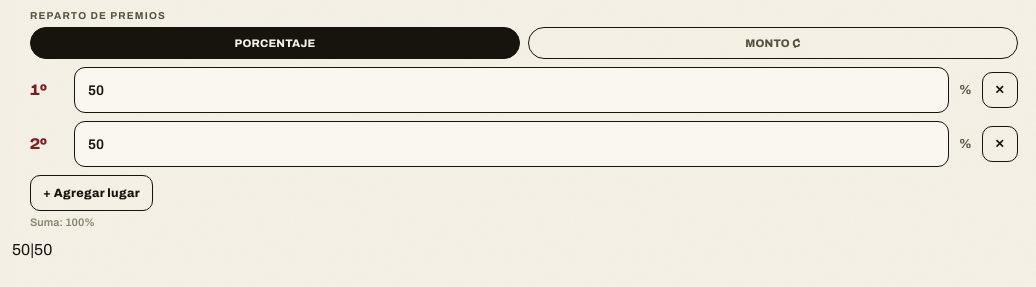
it: PrizeDistributionEditor — Monto ₡ mode › uneven amounts still yield a valid ~100% split (one-decimal percentages)
Click the tab "Monto ₡". click: (773, 43)
box: [528,27,1018,59]
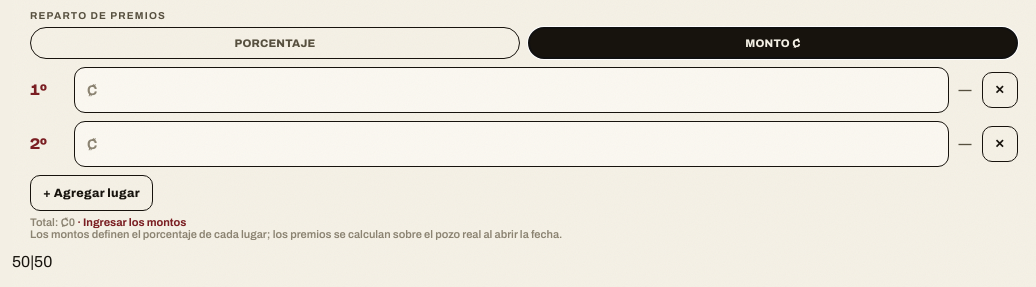
Type "70000" into the field named "Monto 1º lugar". click: (511, 90)
box: [74,67,949,113]
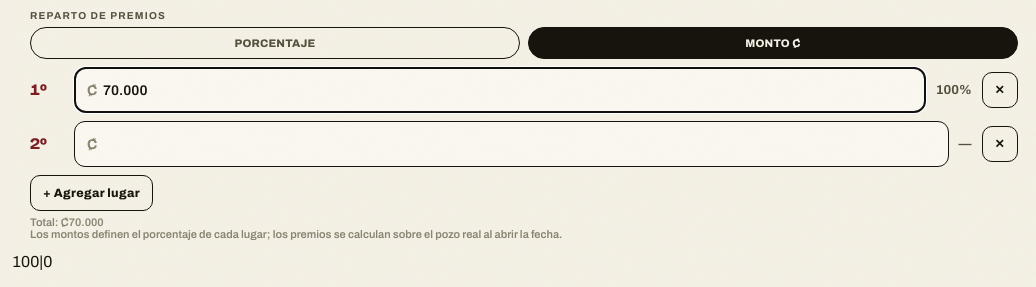
Type "35000" into the field named "Monto 2º lugar". click: (511, 144)
box: [74,121,949,167]
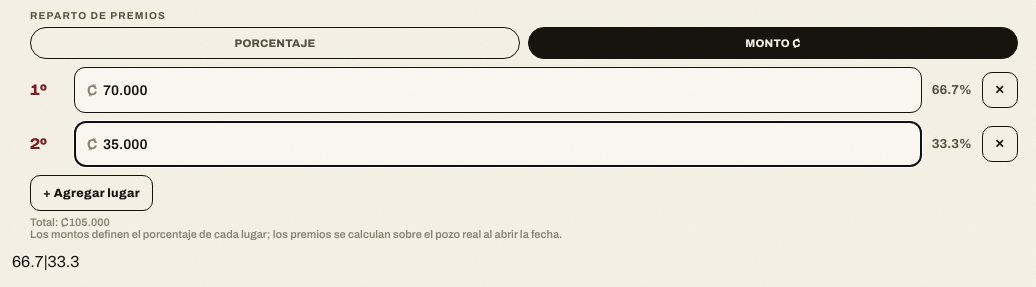
Now the text with test id "rows-out" reads "66.7|33.3", box [12,253,79,270]
